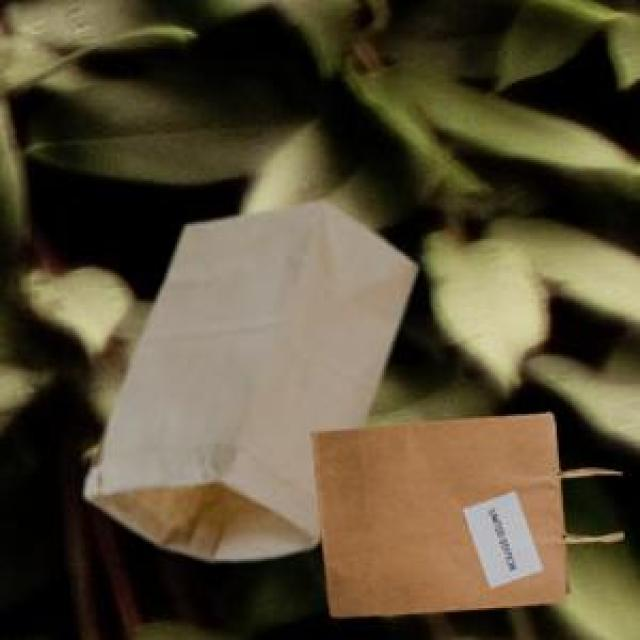paper: (81, 198, 412, 555), (308, 410, 619, 612)
